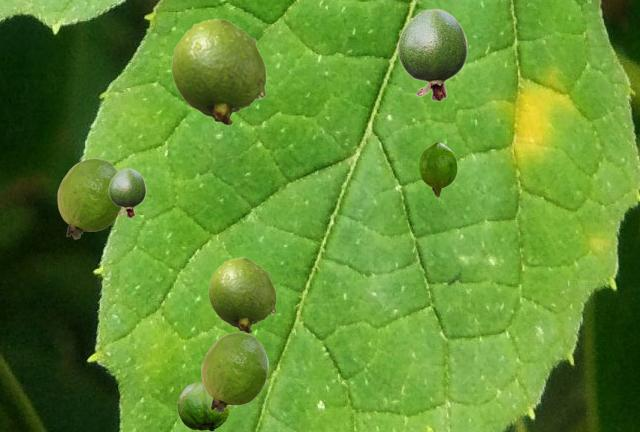guava: (171, 18, 265, 124), (397, 8, 467, 101), (201, 332, 267, 412), (57, 158, 122, 238), (208, 257, 275, 332), (177, 381, 229, 430), (418, 142, 456, 196), (108, 168, 145, 217)
